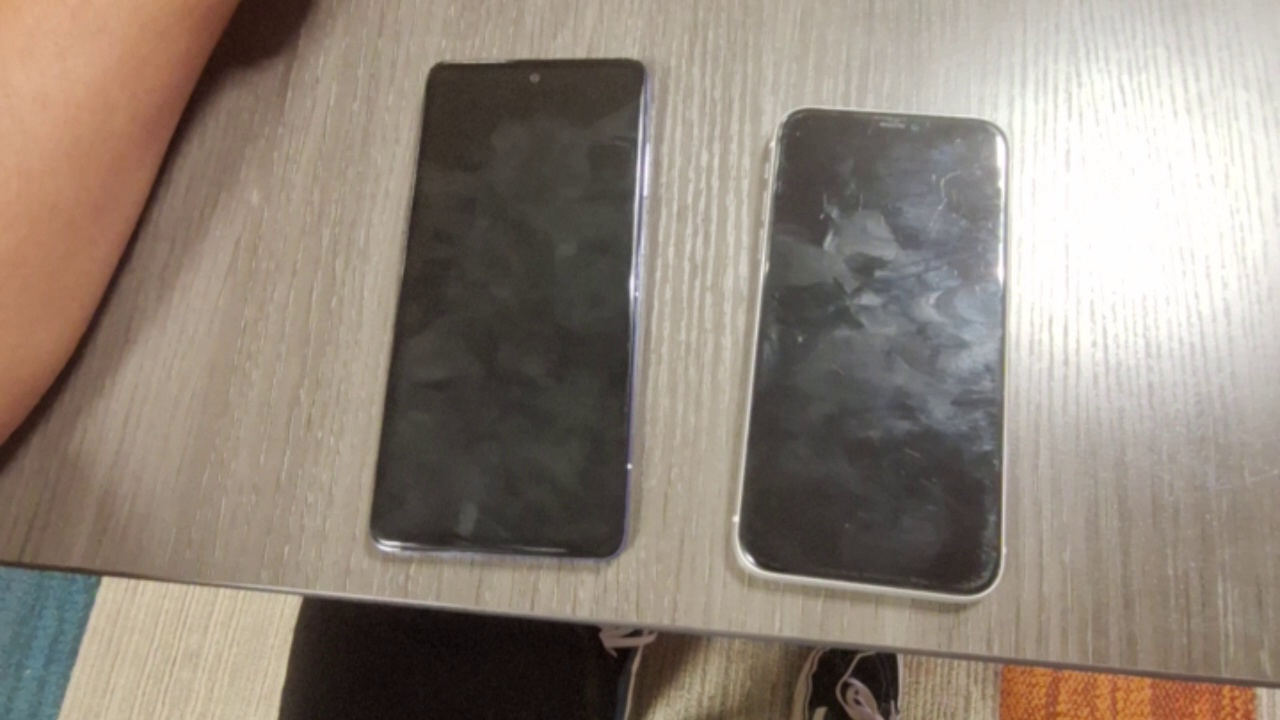celular: (369, 57, 651, 564), (729, 109, 1011, 606)
